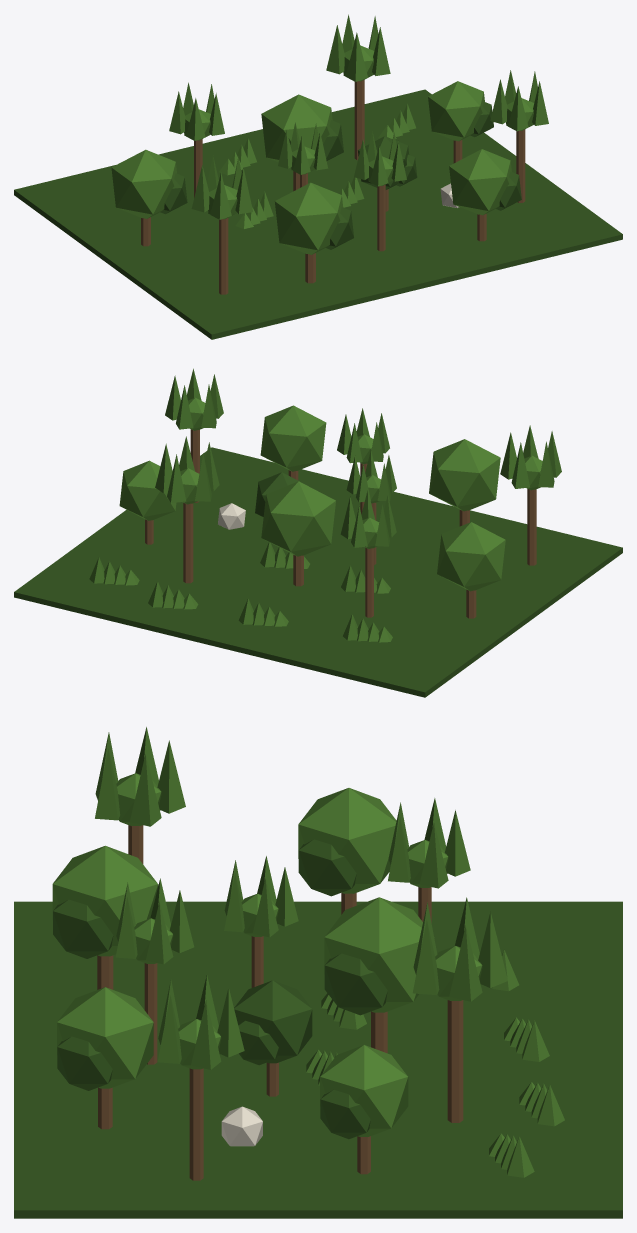
File: landscape.wild-jungle.glb
The picture shows the model from 3 angles, top to bottom: view 1: azimuth 30°, elevation 25°; view 2: azimuth 150°, elevation 25°; view 3: azimuth 270°, elevation 25°; orthographic projection. The views are drawn at different scales.
Parts seen in each view (by area): view 1: landscape.wild-jungle; view 2: landscape.wild-jungle; view 3: landscape.wild-jungle.
Boxes of the visible parts, x1,y1,x2,y2 form: landscape.wild-jungle: (14, 14, 622, 339); landscape.wild-jungle: (14, 368, 622, 697); landscape.wild-jungle: (14, 727, 622, 1218).
Bounding box in the file's own units: 24 × 7.99 × 20.
